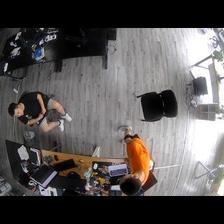normal: (7, 87, 76, 140), (115, 123, 156, 194)
